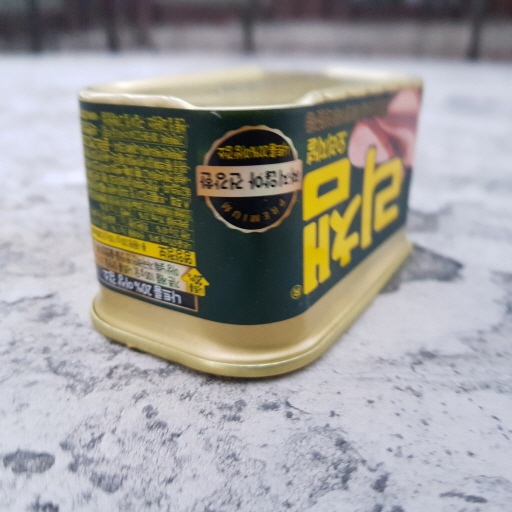Metal_2: (70, 62, 426, 379)
